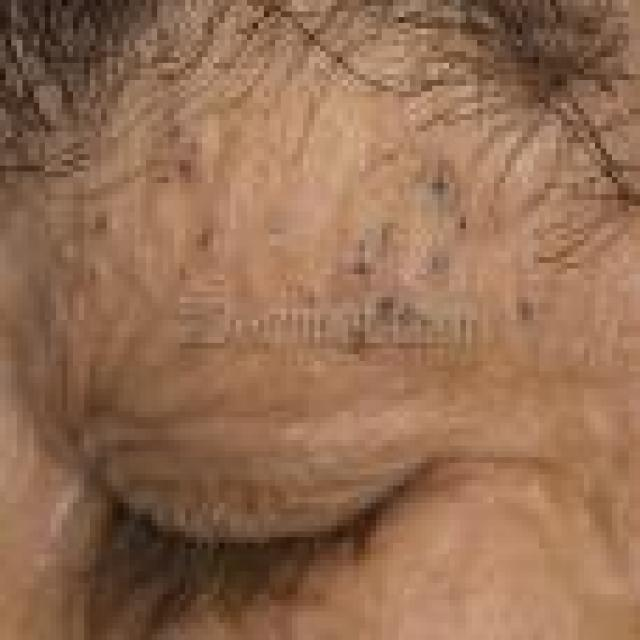Melasma: (98, 154, 527, 390)
